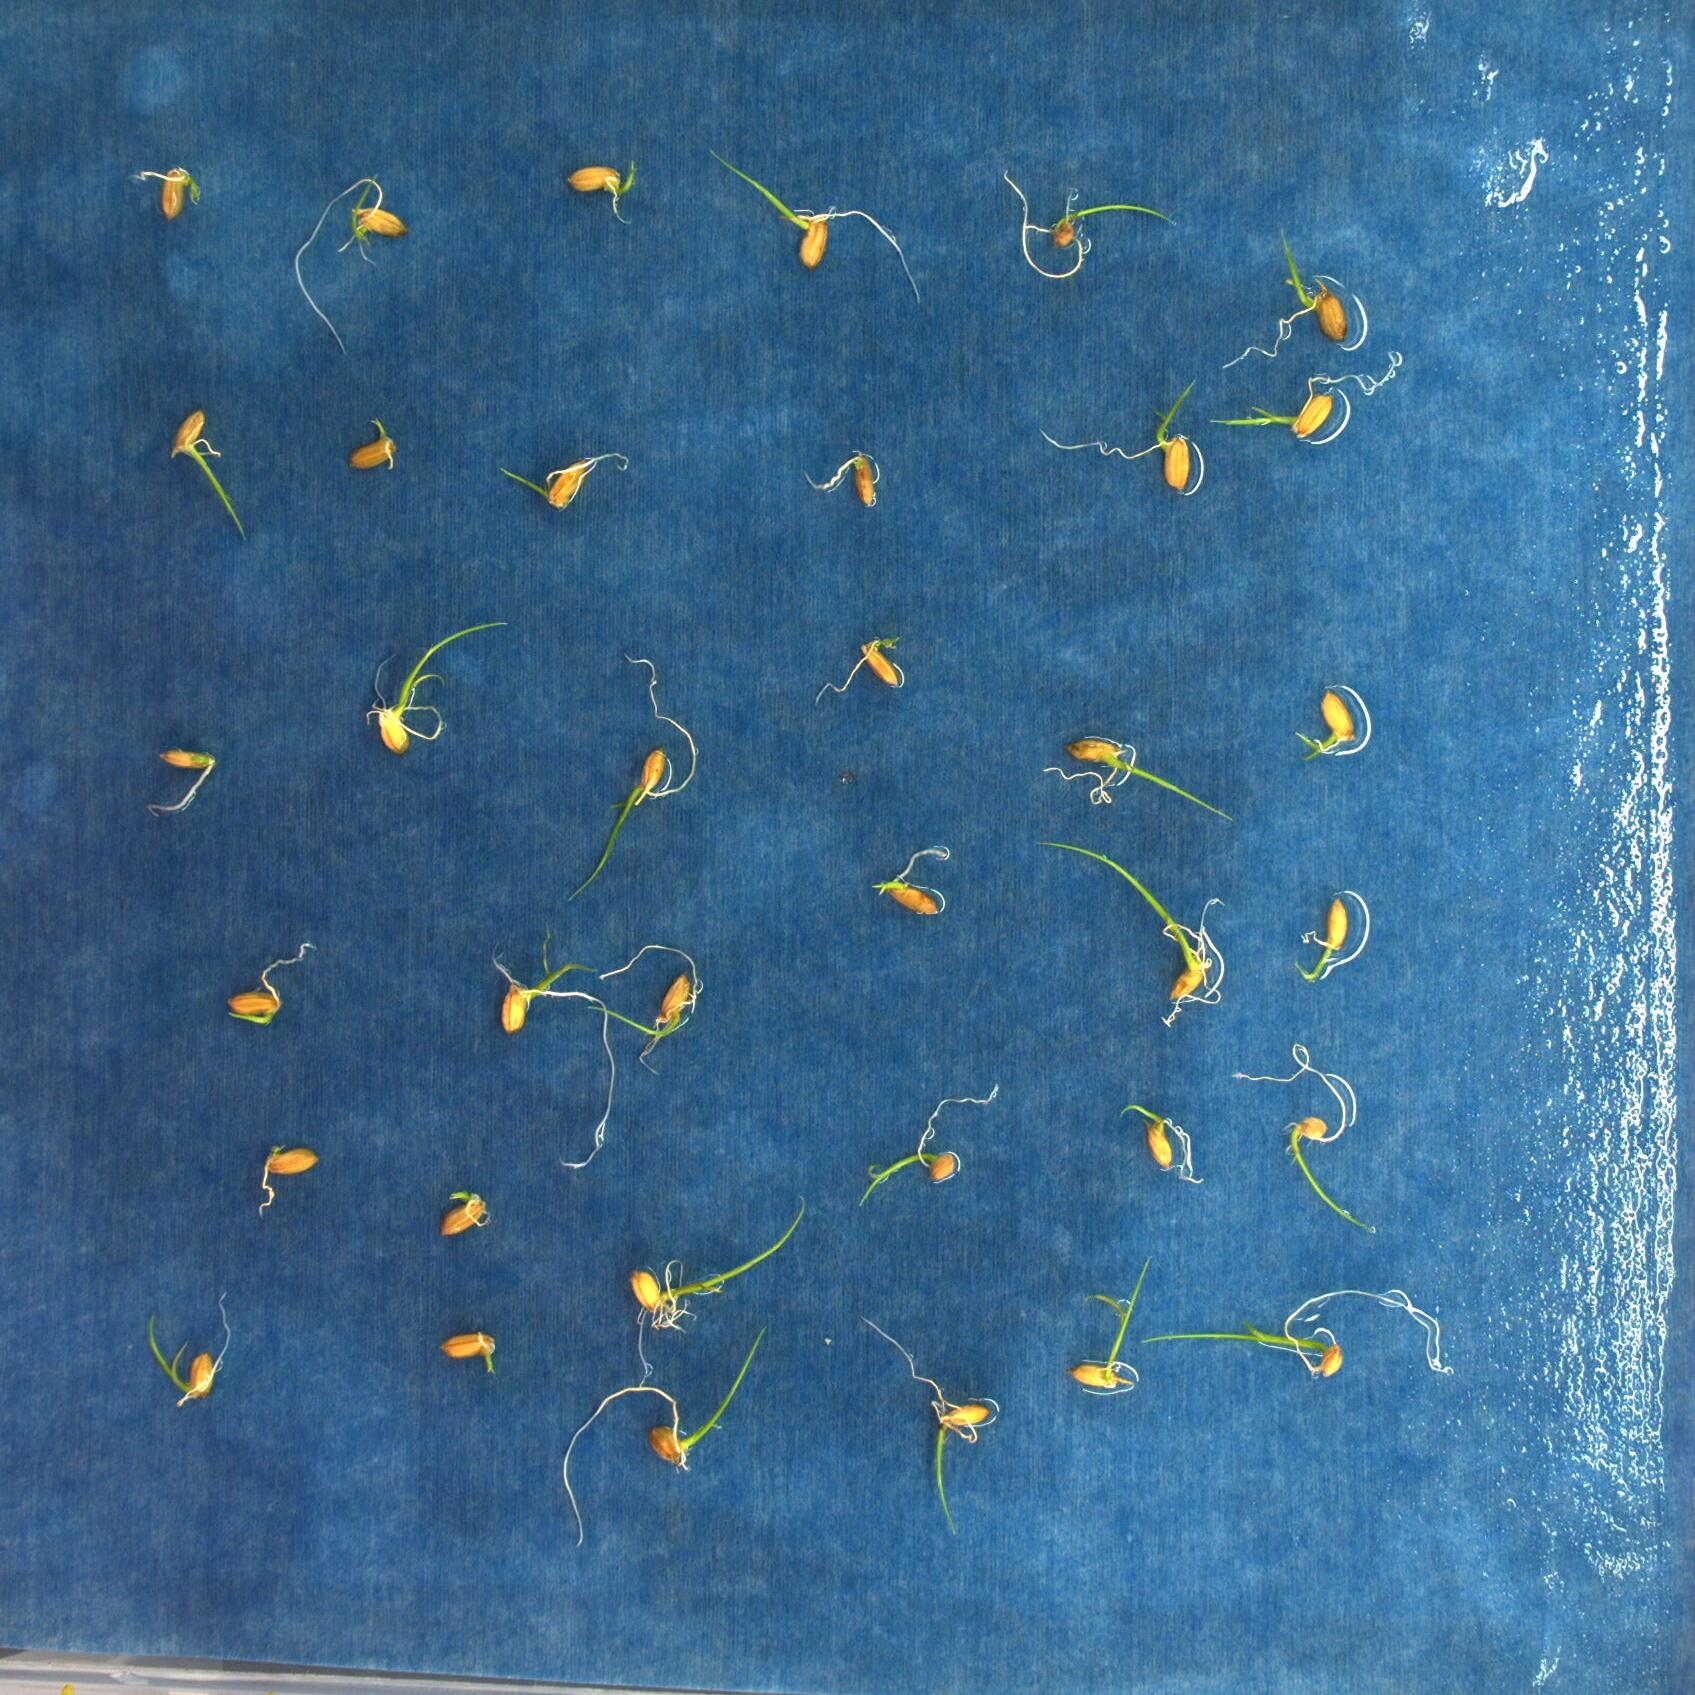not sprout: (806, 452, 883, 515), (248, 1146, 318, 1214), (144, 747, 216, 810), (432, 1191, 494, 1239), (438, 1329, 498, 1374), (343, 418, 396, 469)
sprout: (559, 1332, 765, 1544), (1032, 837, 1225, 1028), (626, 1197, 807, 1386), (712, 143, 922, 306), (559, 657, 702, 894), (492, 928, 613, 1167), (858, 1312, 989, 1534), (1232, 1045, 1377, 1236), (1141, 1291, 1451, 1375), (293, 169, 405, 359), (1001, 168, 1177, 279), (362, 619, 509, 751), (1043, 728, 1236, 826), (1038, 380, 1197, 497), (857, 1082, 1003, 1208), (1206, 351, 1406, 442), (1220, 224, 1346, 366), (588, 941, 698, 1073), (1066, 1254, 1152, 1381), (169, 407, 248, 543), (146, 1291, 233, 1402), (1119, 1096, 1208, 1189), (498, 449, 626, 511), (233, 938, 317, 1028), (868, 843, 951, 917), (815, 640, 903, 700), (567, 154, 636, 227), (1296, 899, 1350, 984), (1295, 685, 1357, 757), (129, 165, 200, 224)
